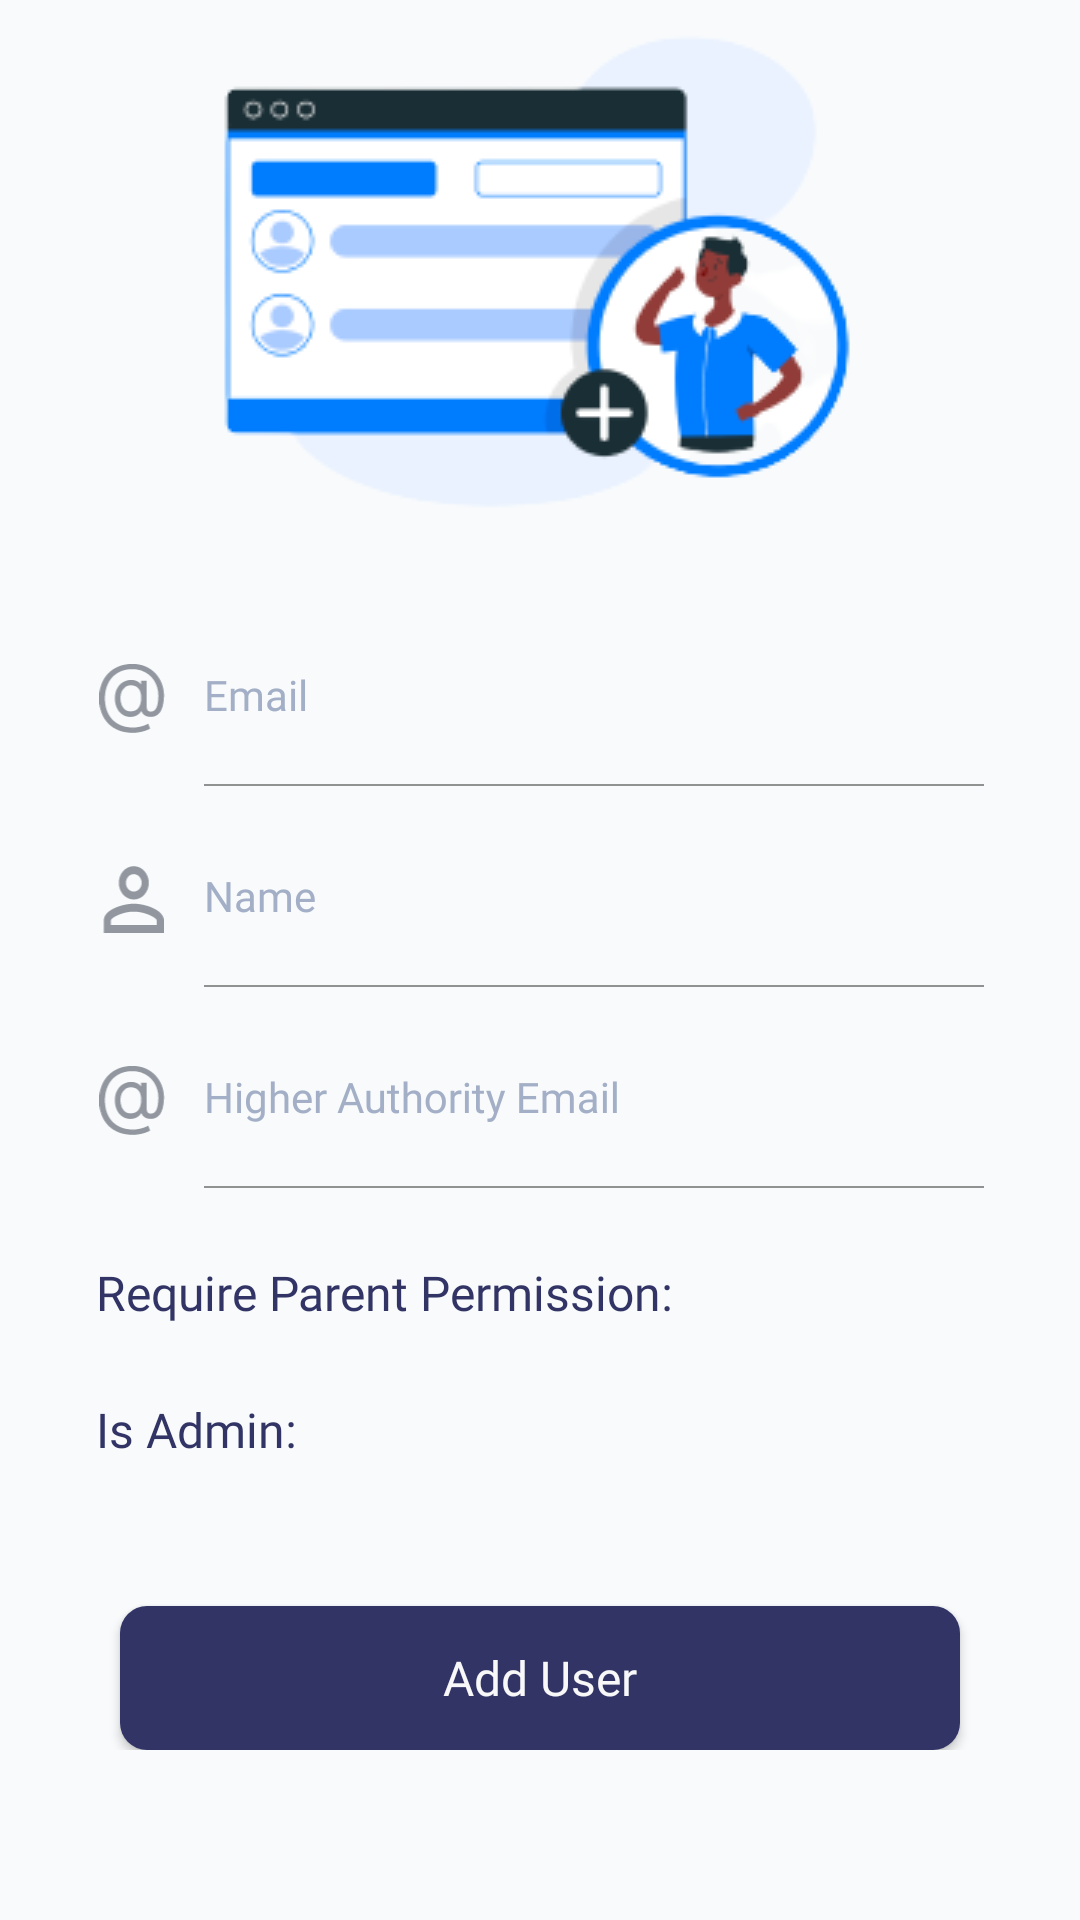

Locate icon controls on the screen. Image size 1080 × 1920, boxes as bbox=(x1, y1, x2, y2).
profile: bbox=(103, 866, 164, 933)
